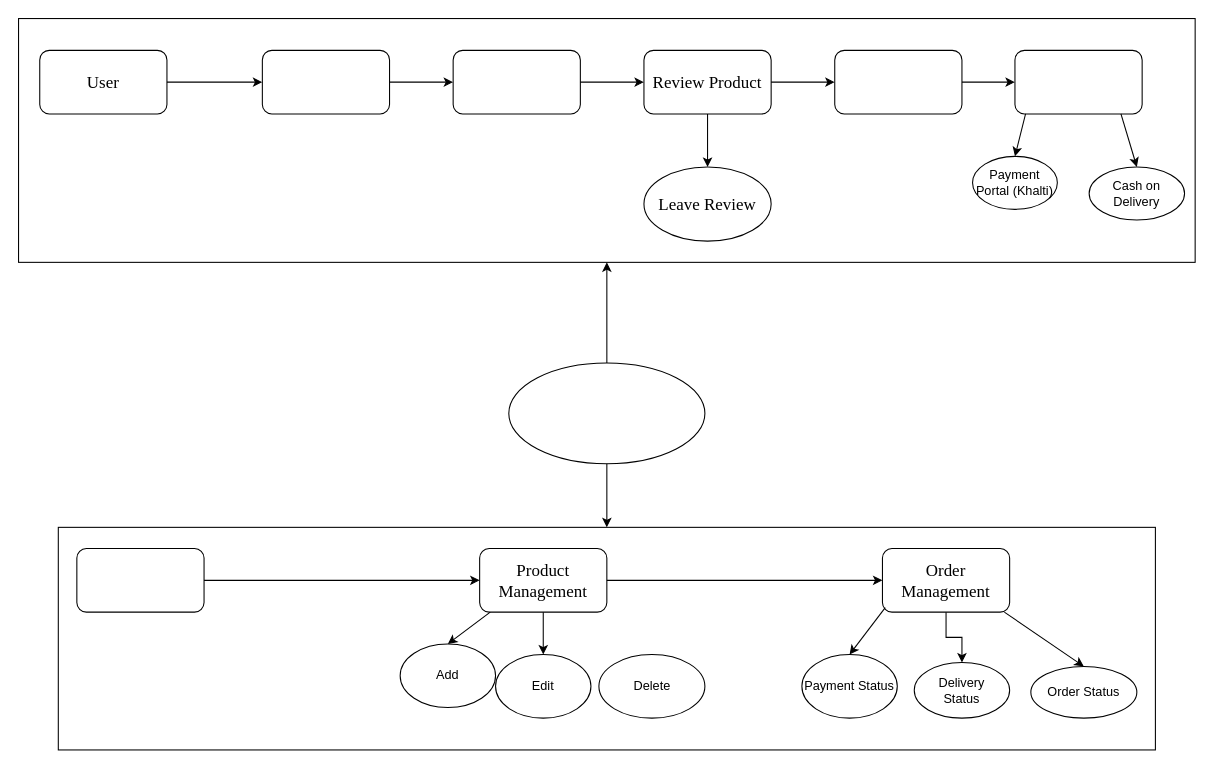
Image size: 1214x768. Some labels were removed from this diagram. The shapes that lost their labels are listed below. From the top down, each one's centre as x and y in pixels, then its label:
At point 325,81: "Visits KrishiBazar".
At point 516,81: "Regisration/Login".
At point 898,81: "Place Order".
At point 1078,81: "Make payment".
At point 606,413: "KrishiBazar".
At point 140,579: "Admin".
